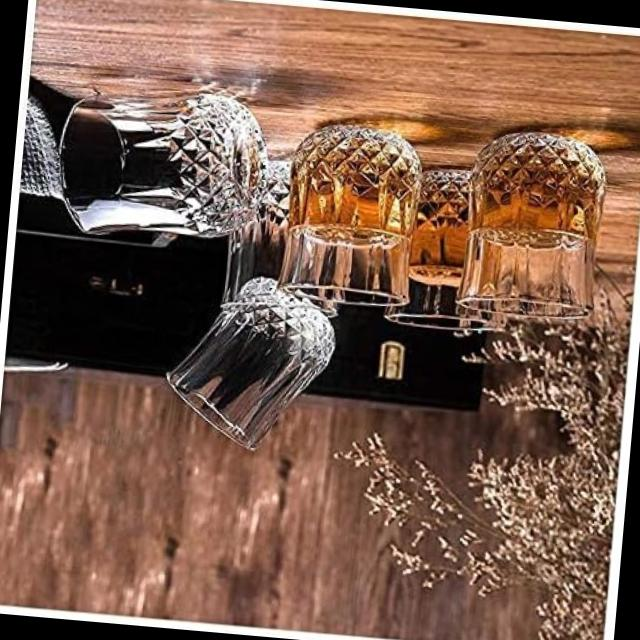glass: (141, 239, 377, 475), (441, 108, 629, 342), (39, 79, 286, 243), (259, 99, 440, 309)
